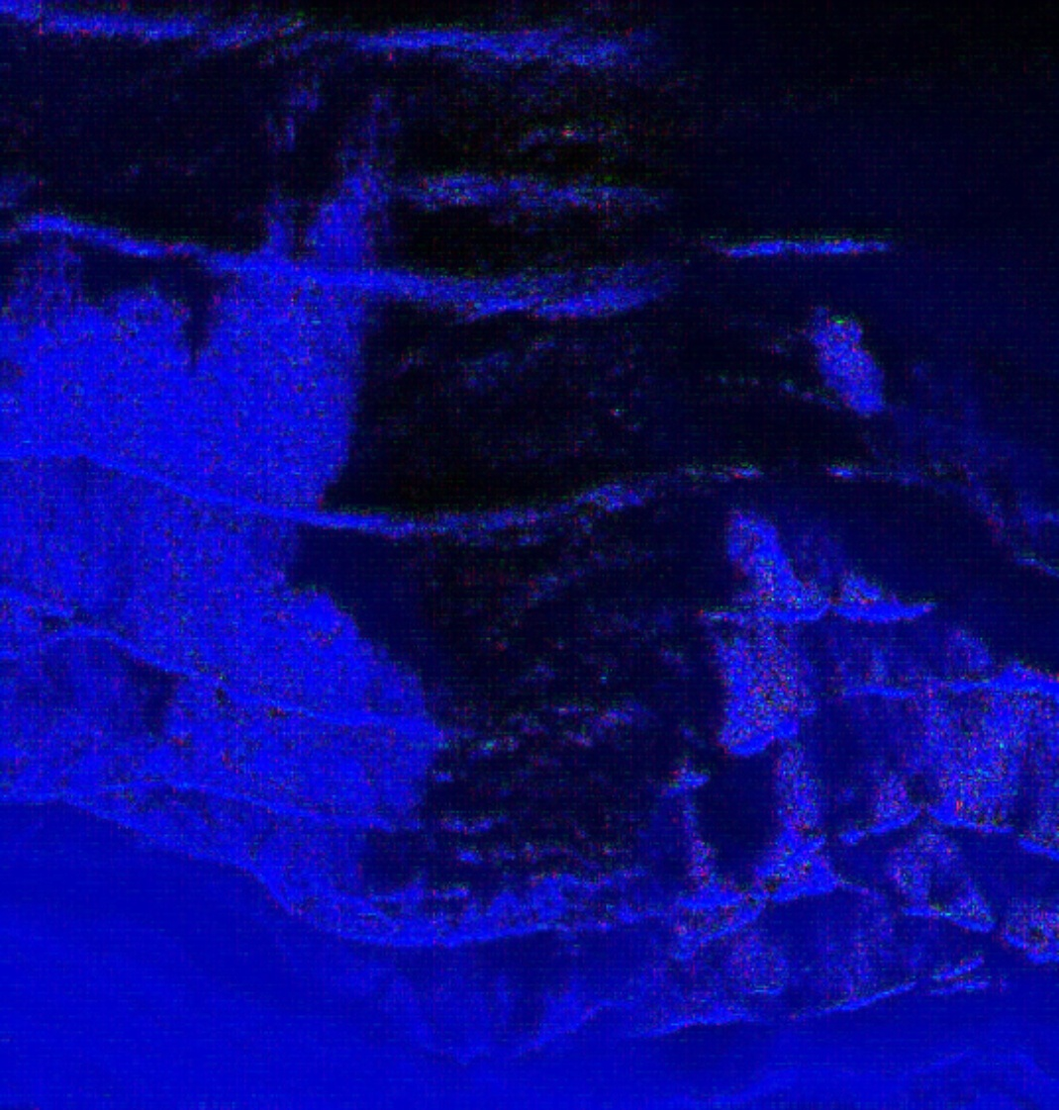rip_current: (289, 107, 776, 889)
